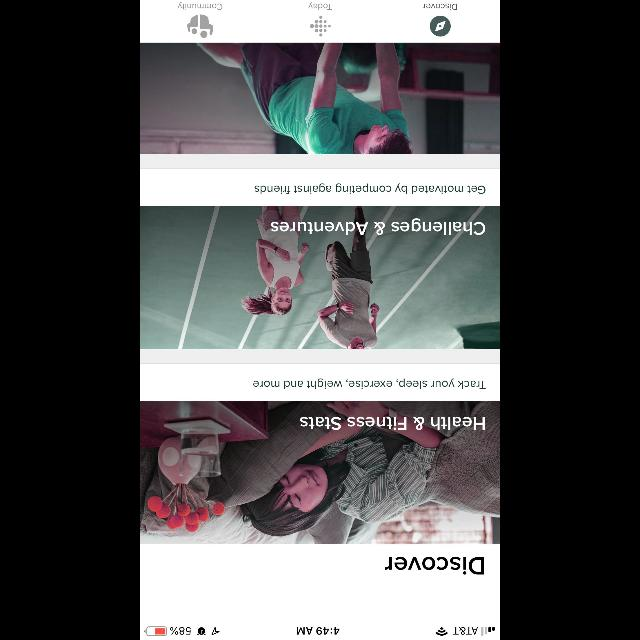icon: (430, 16, 450, 36)
image: (140, 401, 500, 544), (140, 205, 500, 348), (140, 44, 500, 154), (187, 16, 213, 38), (310, 16, 330, 36)
text: (270, 218, 486, 236), (300, 416, 486, 430), (252, 378, 486, 389), (254, 183, 486, 194), (384, 557, 484, 575), (177, 1, 223, 10), (422, 4, 458, 10), (308, 2, 332, 10)
uppertaskbar: (140, 626, 500, 640)
